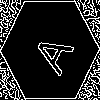A: (25, 25, 75, 77)
